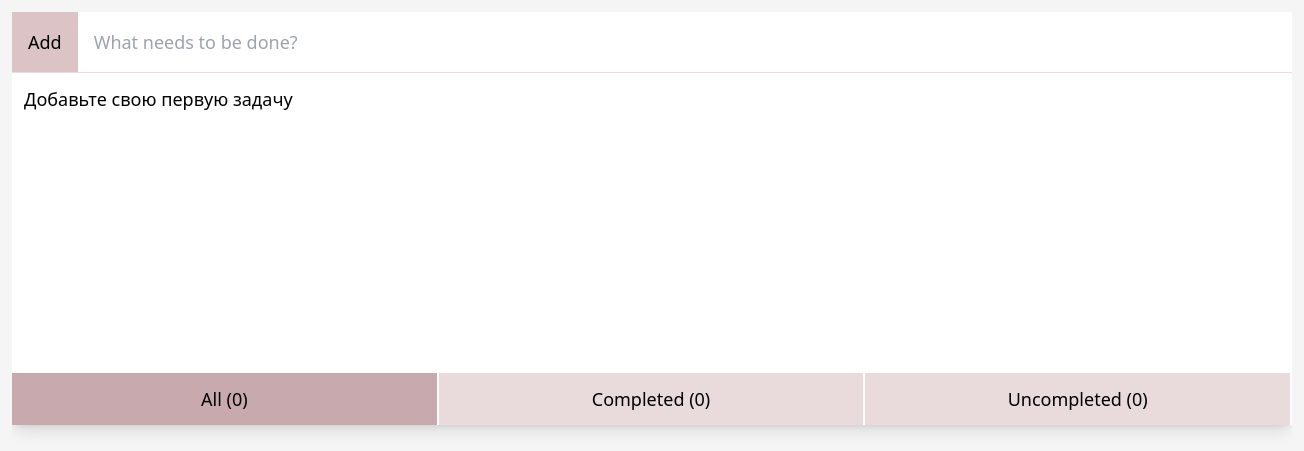
Test case: App › should add a task
Type "New Task" into the field with placeholder "What needs to be done?" at (685, 42), box [78,12,1292,72]
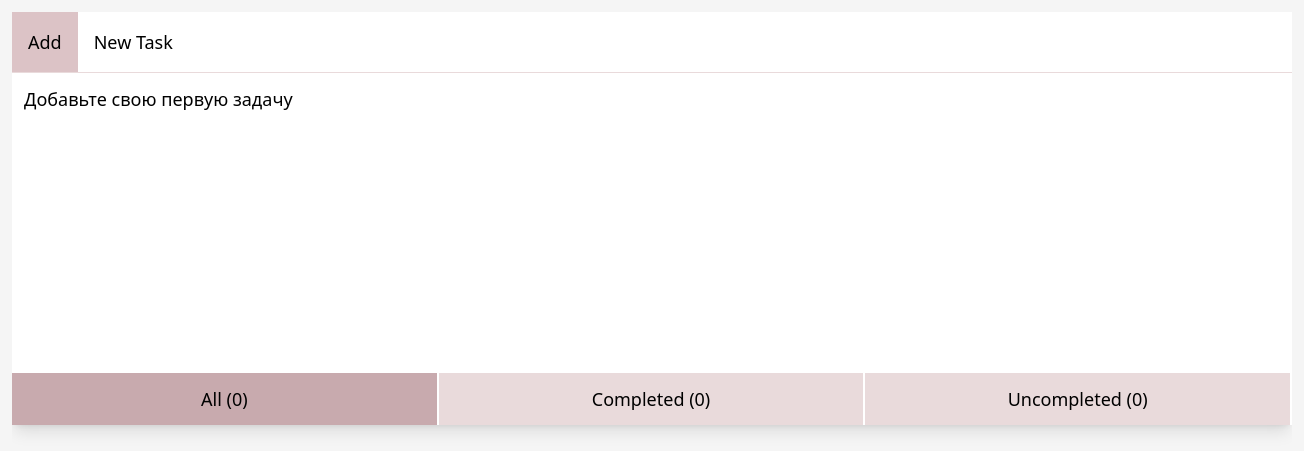
Click the button "Add" at (45, 42), box [12,12,78,72]
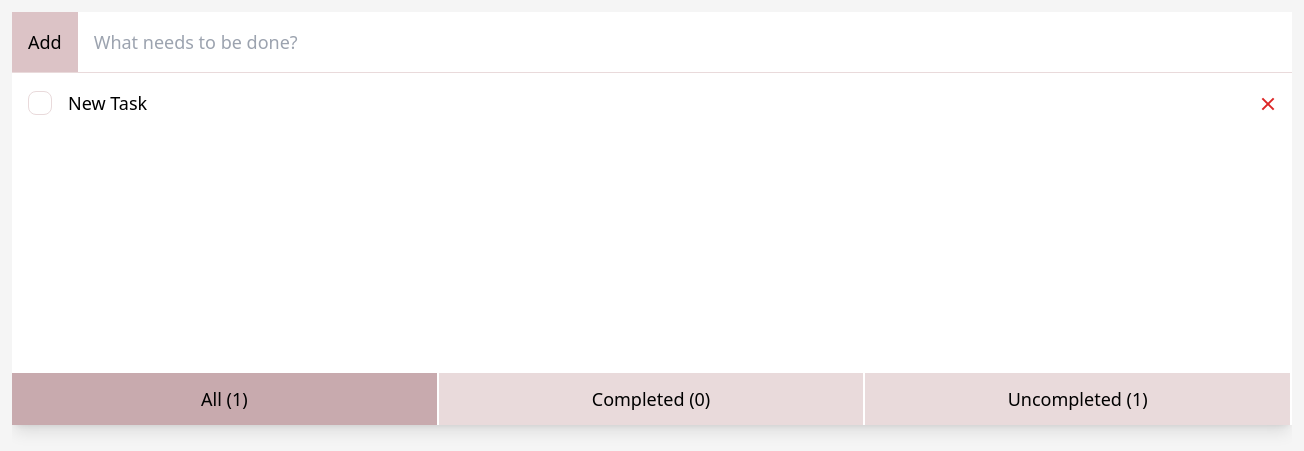
Now the text "New Task" is shown, box [68,89,147,117]
